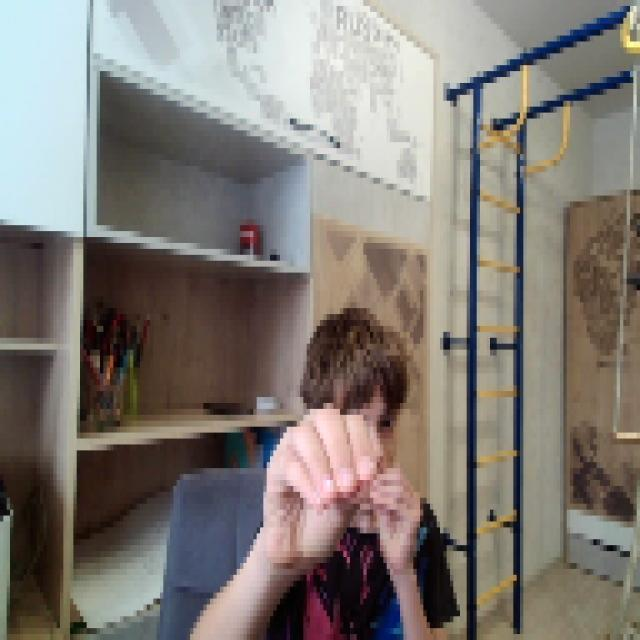left_click: (256, 397, 376, 563)
